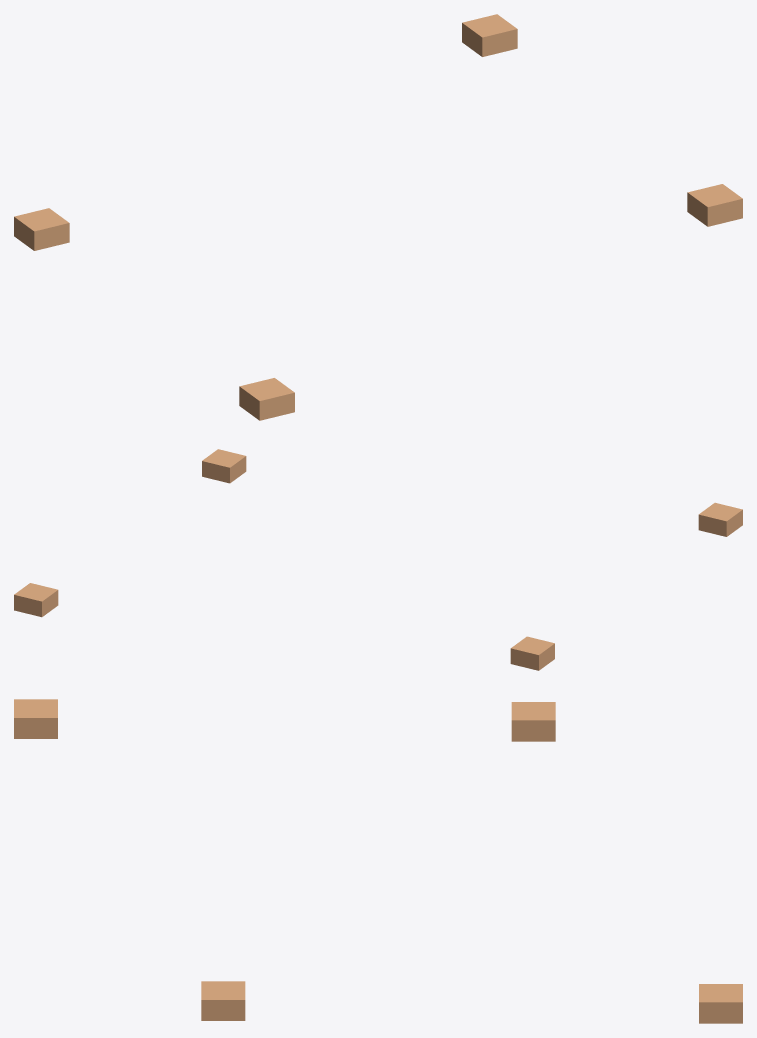
The model's file is stands.glb.
The picture shows the model from 3 angles, top to bottom: view 1: azimuth 30°, elevation 25°; view 2: azimuth 150°, elevation 25°; view 3: azimuth 270°, elevation 25°; orthographic projection. The views are drawn at different scales.
Visible parts, largest first — view 1: Stands; view 2: Stands; view 3: Stands.
Part boxes in pixels (<box>): Stands: <box>14,14,742,420</box>; Stands: <box>14,449,742,670</box>; Stands: <box>14,699,742,1023</box>.
Size of the model in its own units: 4.9 by 0.16 by 4.98.
